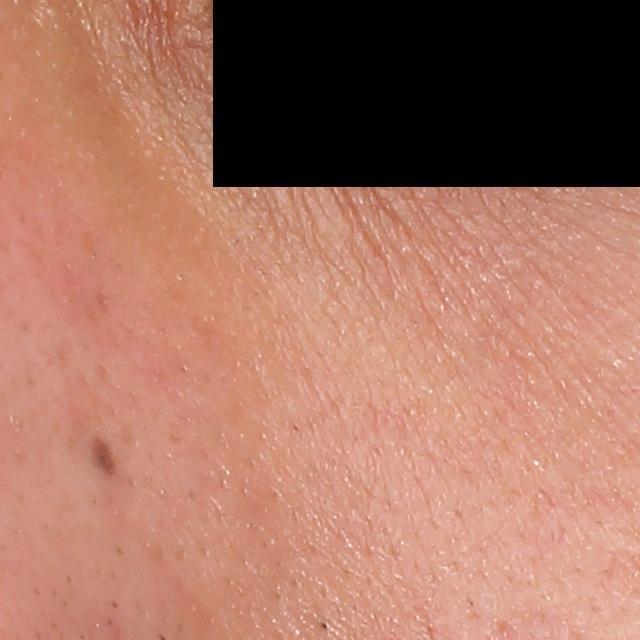nevus: (84, 430, 122, 492)
